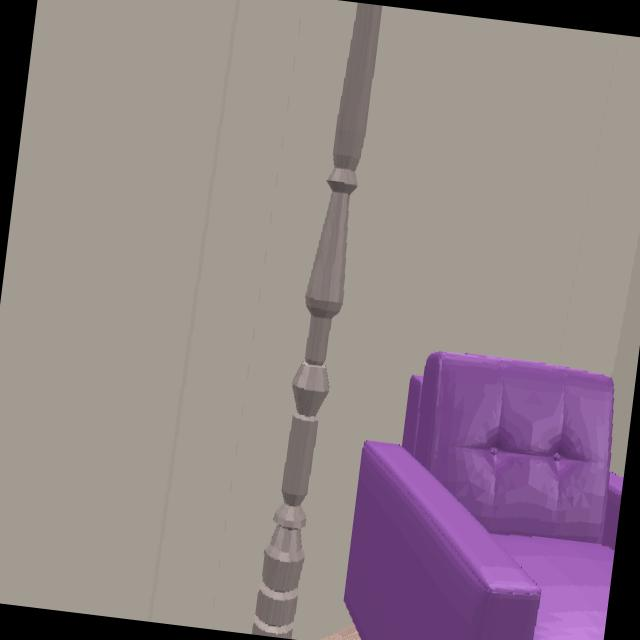sofa: (344, 354, 622, 640)
